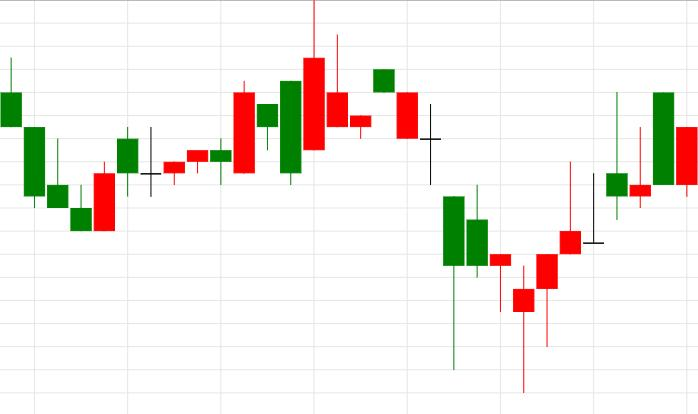bullish_engulfing_rise: (0, 57, 116, 232)
hammer_rise: (373, 69, 535, 394)
shooting_star_fall: (513, 92, 627, 393)
